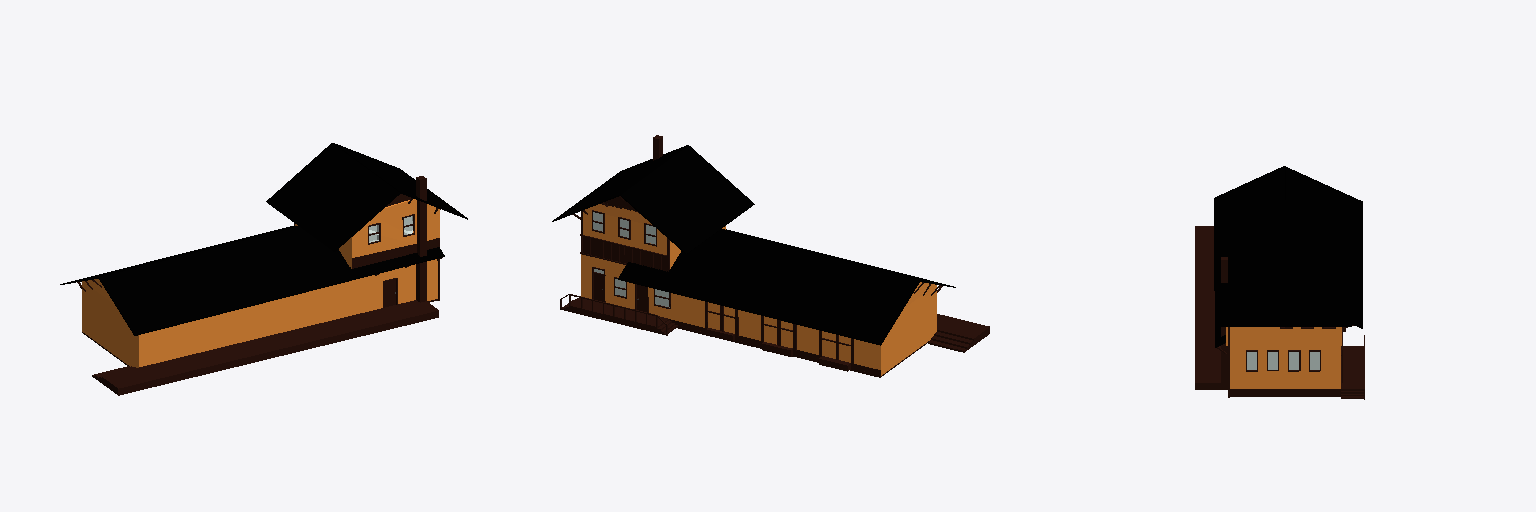
3 renders of one model, left to right at view 1: azimuth 30°, elevation 25°; view 2: azimuth 150°, elevation 25°; view 3: azimuth 270°, elevation 25°, orthographic.
Parts seen in each view (by area): view 1: group[number redacted], group[number redacted], group[number redacted], group[number redacted], group[number redacted], group[number redacted], group[number redacted], group[number redacted], group[number redacted]; view 2: group[number redacted], group[number redacted], group[number redacted], group[number redacted], group[number redacted], group[number redacted], group[number redacted], group[number redacted]; view 3: group[number redacted], group[number redacted], group[number redacted], group[number redacted], group[number redacted], group[number redacted], group[number redacted].
Part boxes in pixels (left/top/right/bottom): group[number redacted]: left=99, top=226, right=444, bottom=335; group[number redacted]: left=137, top=259, right=437, bottom=367; group[number redacted]: left=92, top=300, right=438, bottom=395; group[number redacted]: left=266, top=143, right=400, bottom=251; group[number redacted]: left=294, top=194, right=439, bottom=268; group[number redacted]: left=82, top=279, right=436, bottom=367; group[number redacted]: left=333, top=143, right=467, bottom=219; group[number redacted]: left=416, top=176, right=426, bottom=302; group[number redacted]: left=60, top=226, right=297, bottom=284; group[number redacted]: left=618, top=231, right=919, bottom=345; group[number redacted]: left=581, top=254, right=936, bottom=375; group[number redacted]: left=620, top=145, right=754, bottom=253; group[number redacted]: left=581, top=196, right=725, bottom=271; group[number redacted]: left=552, top=145, right=687, bottom=221; group[number redacted]: left=561, top=298, right=677, bottom=334; group[number redacted]: left=928, top=314, right=989, bottom=352; group[number redacted]: left=719, top=229, right=955, bottom=287; group[number redacted]: left=1215, top=251, right=1351, bottom=326; group[number redacted]: left=1285, top=166, right=1362, bottom=328; group[number redacted]: left=1214, top=166, right=1285, bottom=347; group[number redacted]: left=1230, top=346, right=1340, bottom=394; group[number redacted]: left=1195, top=226, right=1227, bottom=389; group[number redacted]: left=1226, top=327, right=1341, bottom=345; group[number redacted]: left=1341, top=346, right=1363, bottom=398.
Bounding box in the file's own units: 6.95 × 2.39 × 2.84.